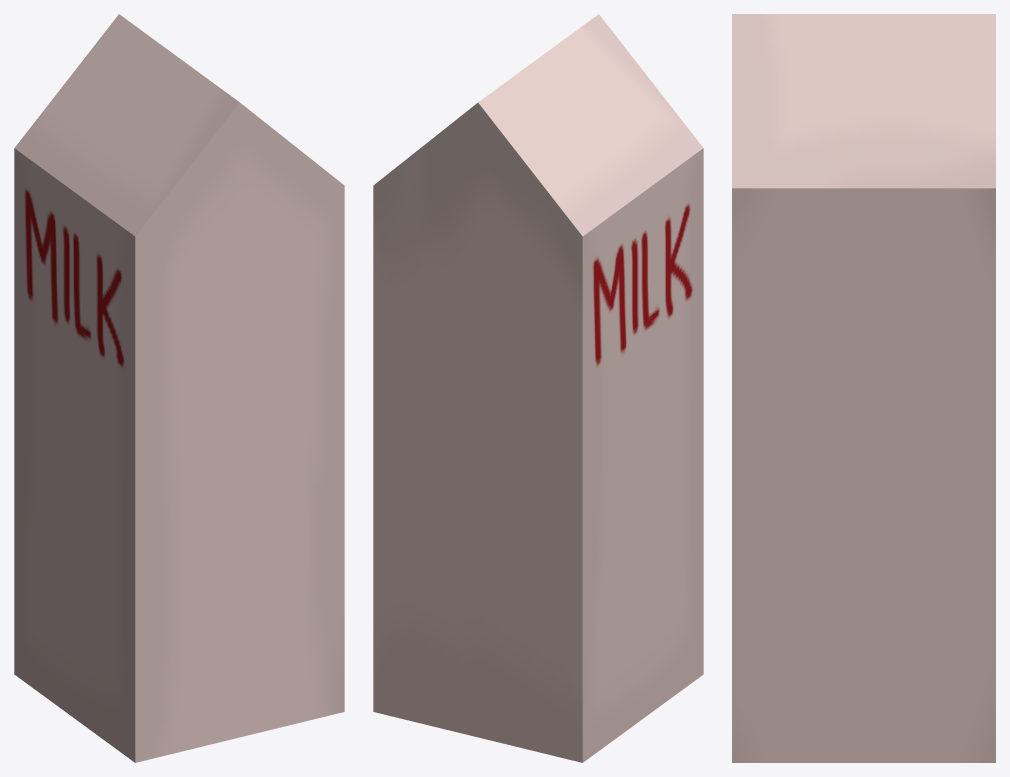
File: milk.fbx
3 views of the same model, side by side, from view 1: azimuth 30°, elevation 25°; view 2: azimuth 150°, elevation 25°; view 3: azimuth 270°, elevation 25° (orthographic). The views are drawn at different scales.
Parts seen in each view (by area): view 1: Body; view 2: Body; view 3: Body.
Boxes of the visible parts, left/top/right/bottom form: Body: left=14, top=14, right=344, bottom=762; Body: left=373, top=14, right=703, bottom=762; Body: left=732, top=14, right=995, bottom=762.
Bounding box in the file's own units: 200 × 580 × 200.
1 material, 1 textured.
